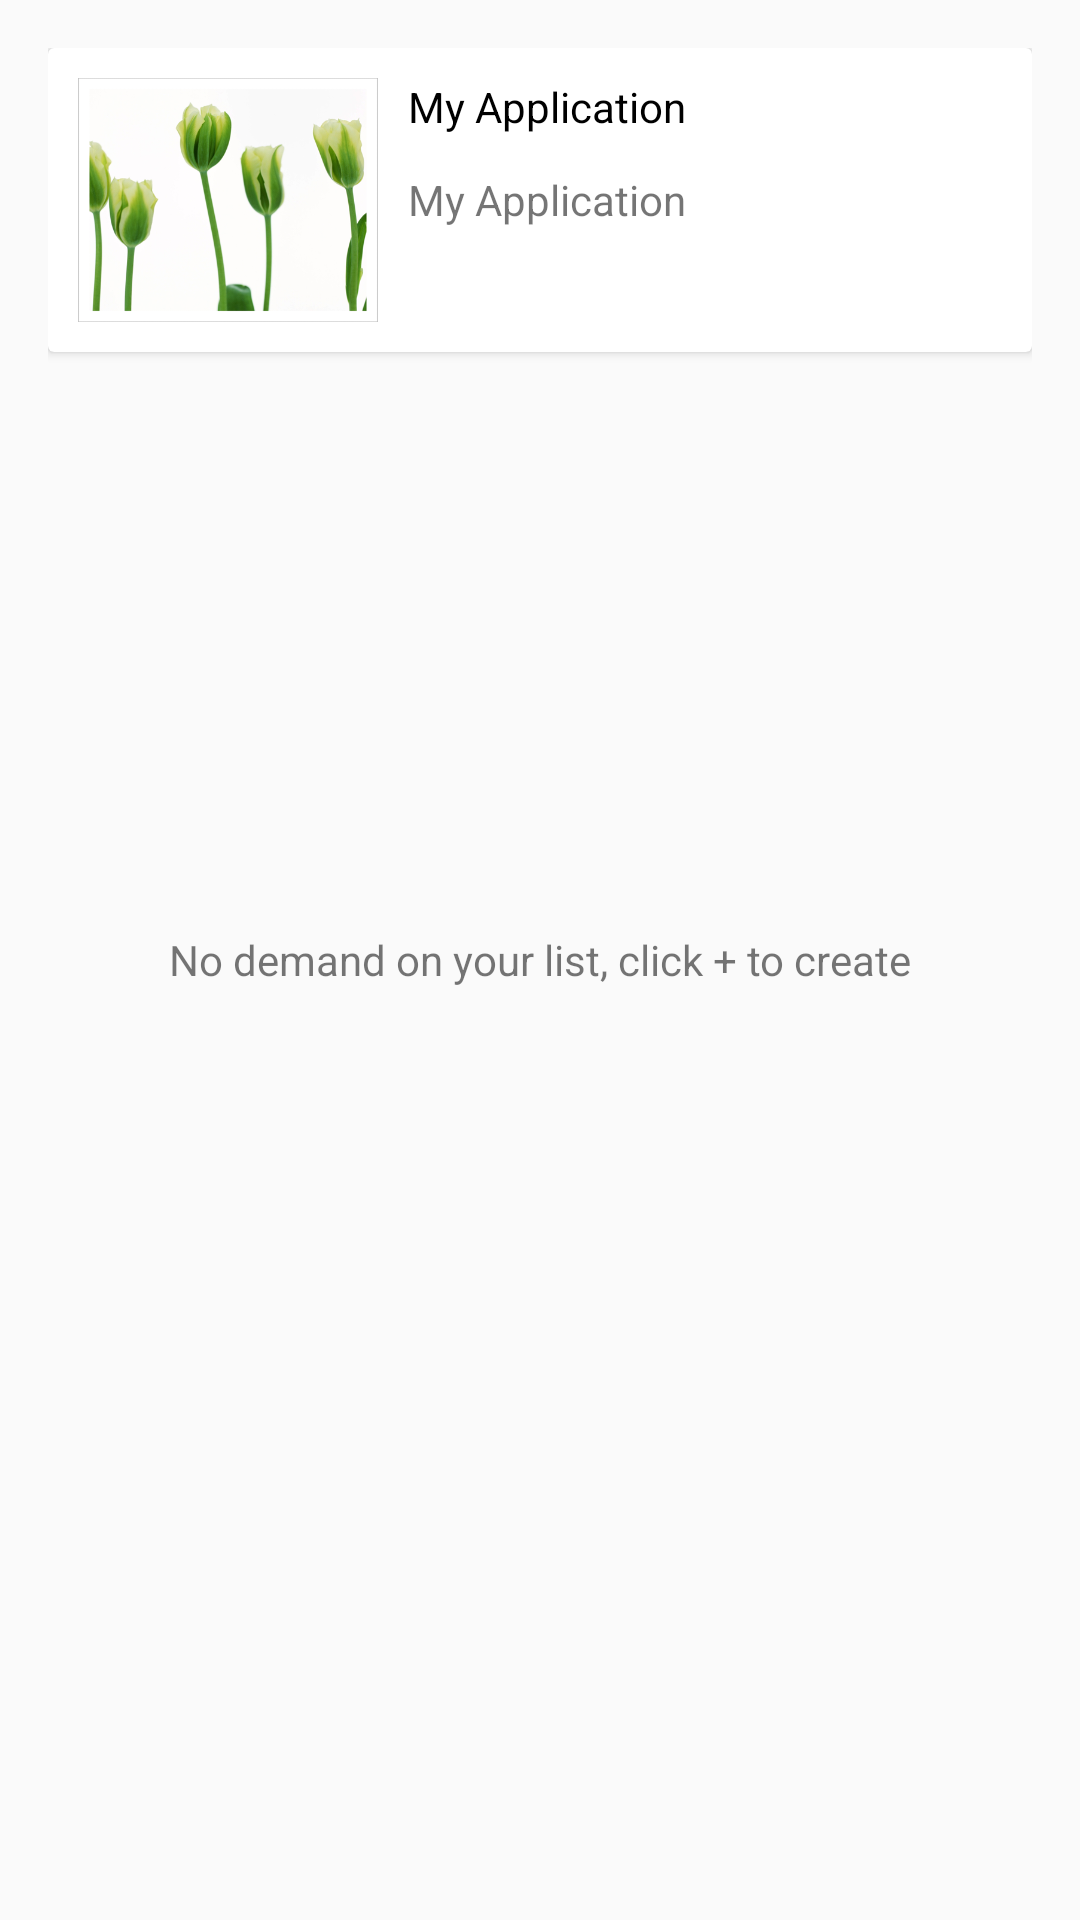

Point at icon controls on the screen. Image size 1080x1920, points as point (x, y).
tulips: point (228, 200)
